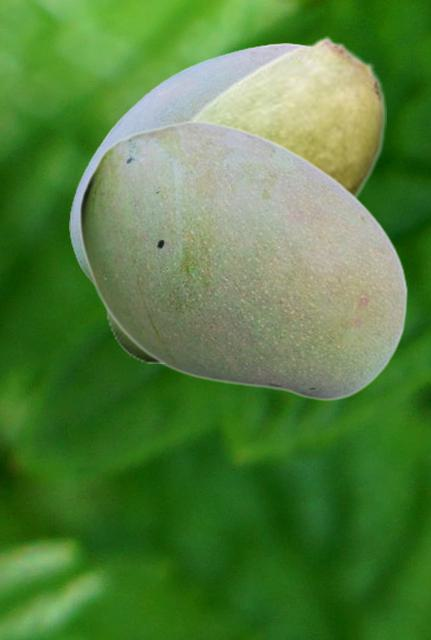green_mango: (78, 119, 407, 400), (103, 36, 385, 362), (69, 43, 306, 285)
